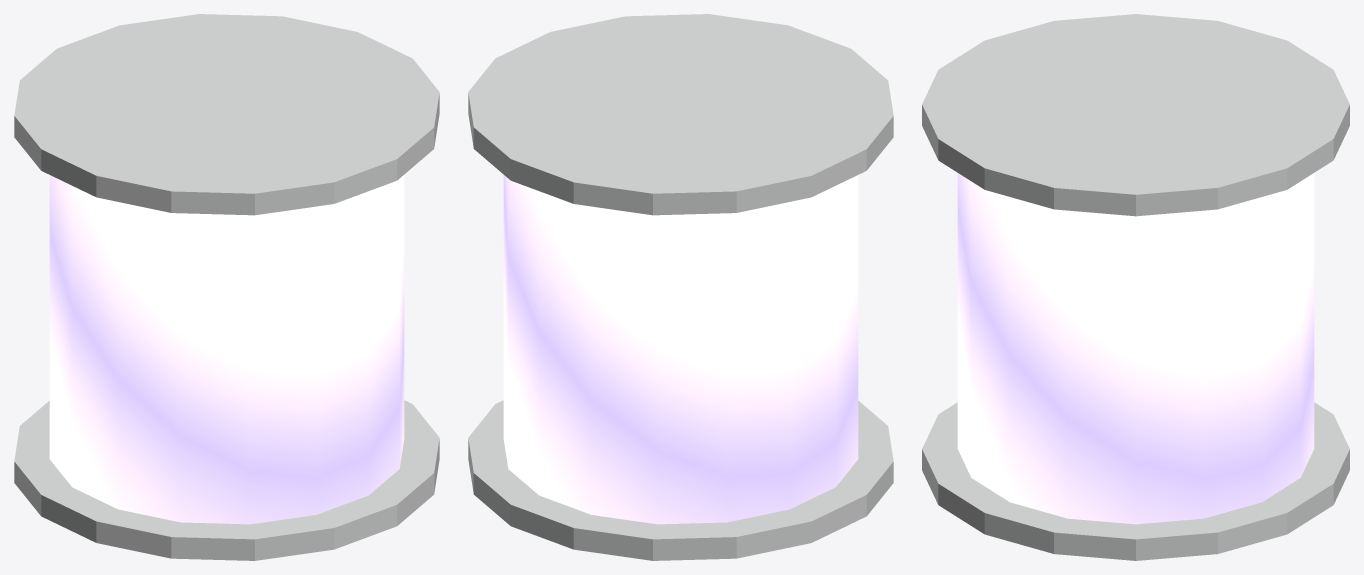
Rendered from thread-spool.glb.
3 renders of one model, left to right at view 1: azimuth 30°, elevation 25°; view 2: azimuth 150°, elevation 25°; view 3: azimuth 270°, elevation 25°, orthographic.
Visible parts, largest first — view 1: SpoolBody, SpoolCap.001, SpoolCap; view 2: SpoolBody, SpoolCap.001, SpoolCap; view 3: SpoolBody, SpoolCap.001, SpoolCap.
Boxes of the visible parts, x1,y1,x2,y2 form: SpoolBody: [49, 175, 404, 524]; SpoolCap.001: [14, 14, 439, 215]; SpoolCap: [14, 400, 439, 560]; SpoolBody: [503, 175, 858, 524]; SpoolCap.001: [468, 14, 893, 215]; SpoolCap: [468, 400, 893, 560]; SpoolBody: [957, 173, 1314, 524]; SpoolCap.001: [922, 14, 1349, 216]; SpoolCap: [922, 402, 1349, 560].
Bounding box in the file's own units: 0.36 × 0.34 × 0.36.
